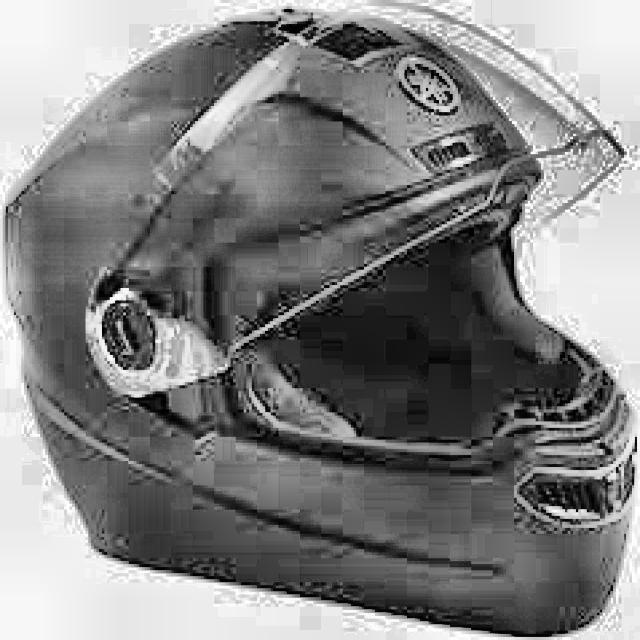Helmet: (6, 8, 639, 640)
